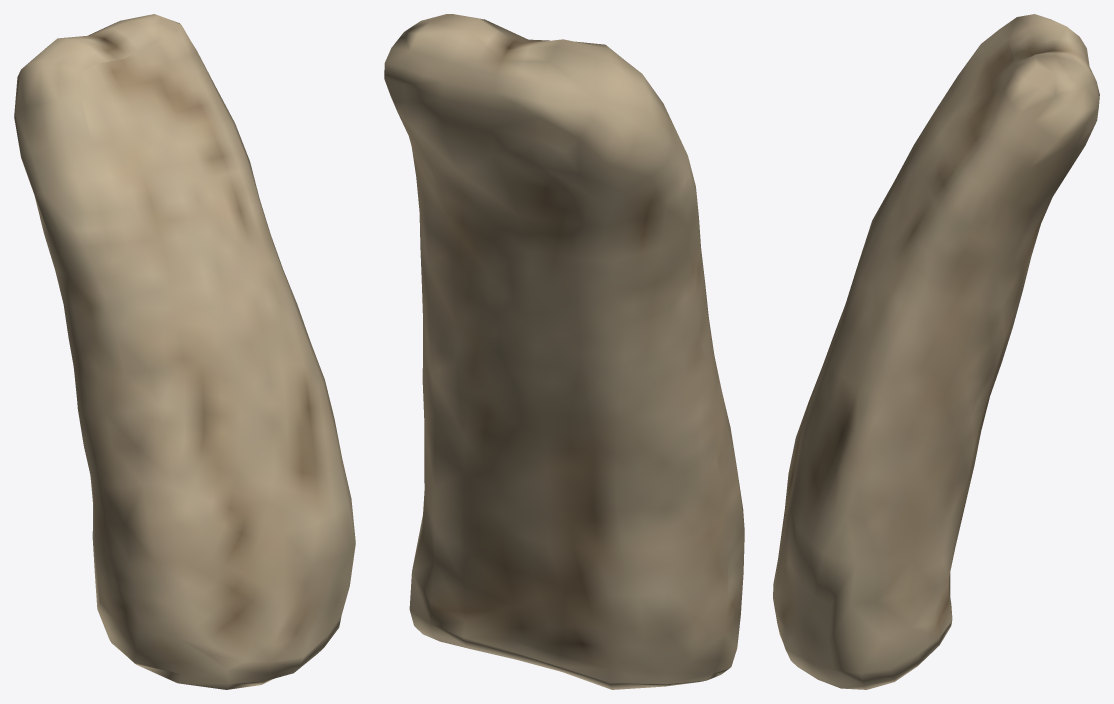
Rendered from Upper_Incisor4.glb.
3 views of the same model, side by side, from view 1: azimuth 30°, elevation 25°; view 2: azimuth 150°, elevation 25°; view 3: azimuth 270°, elevation 25° (orthographic). The views are drawn at different scales.
Parts seen in each view (by area): view 1: Group28866_Mesh.078; view 2: Group28866_Mesh.078; view 3: Group28866_Mesh.078.
Boxes of the visible parts, left/top/right/bottom form: Group28866_Mesh.078: left=14, top=14, right=355, bottom=689; Group28866_Mesh.078: left=384, top=14, right=744, bottom=689; Group28866_Mesh.078: left=773, top=14, right=1099, bottom=689.
Bounding box in the file's own units: 0.0145 × 0.031 × 0.0155.
Materials: 1 (1 with a texture image).
